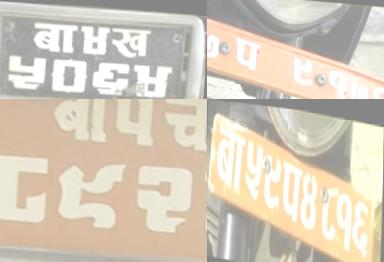0: (47, 55, 91, 97)
1: (335, 187, 353, 250), (326, 67, 350, 99), (372, 81, 384, 99)
2: (128, 156, 199, 237)
4: (129, 59, 175, 99), (77, 20, 112, 57), (301, 165, 321, 227)
5: (108, 99, 161, 150), (2, 51, 51, 95), (245, 136, 265, 203)
6: (88, 57, 133, 99), (352, 191, 375, 261)
7: (207, 23, 224, 58), (349, 75, 372, 99)
8: (0, 143, 58, 228), (321, 180, 338, 243)
9: (53, 151, 130, 233), (264, 149, 282, 211), (290, 56, 319, 87)
ba: (44, 99, 113, 144), (216, 122, 247, 198), (28, 17, 80, 57)
cha: (157, 99, 207, 155)
kha: (109, 22, 155, 59)
pa: (281, 155, 303, 228), (228, 33, 265, 71)
